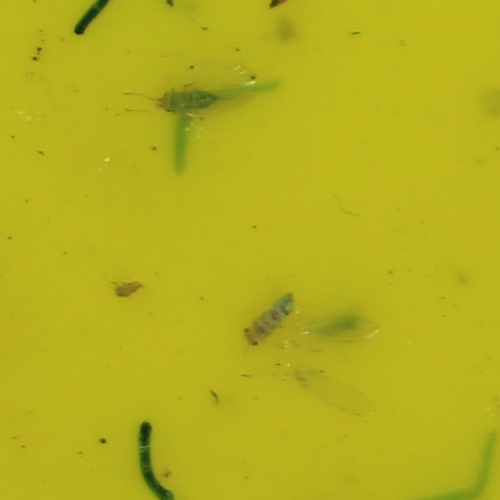Glycaspis: (242, 296, 294, 344), (155, 85, 224, 109)
